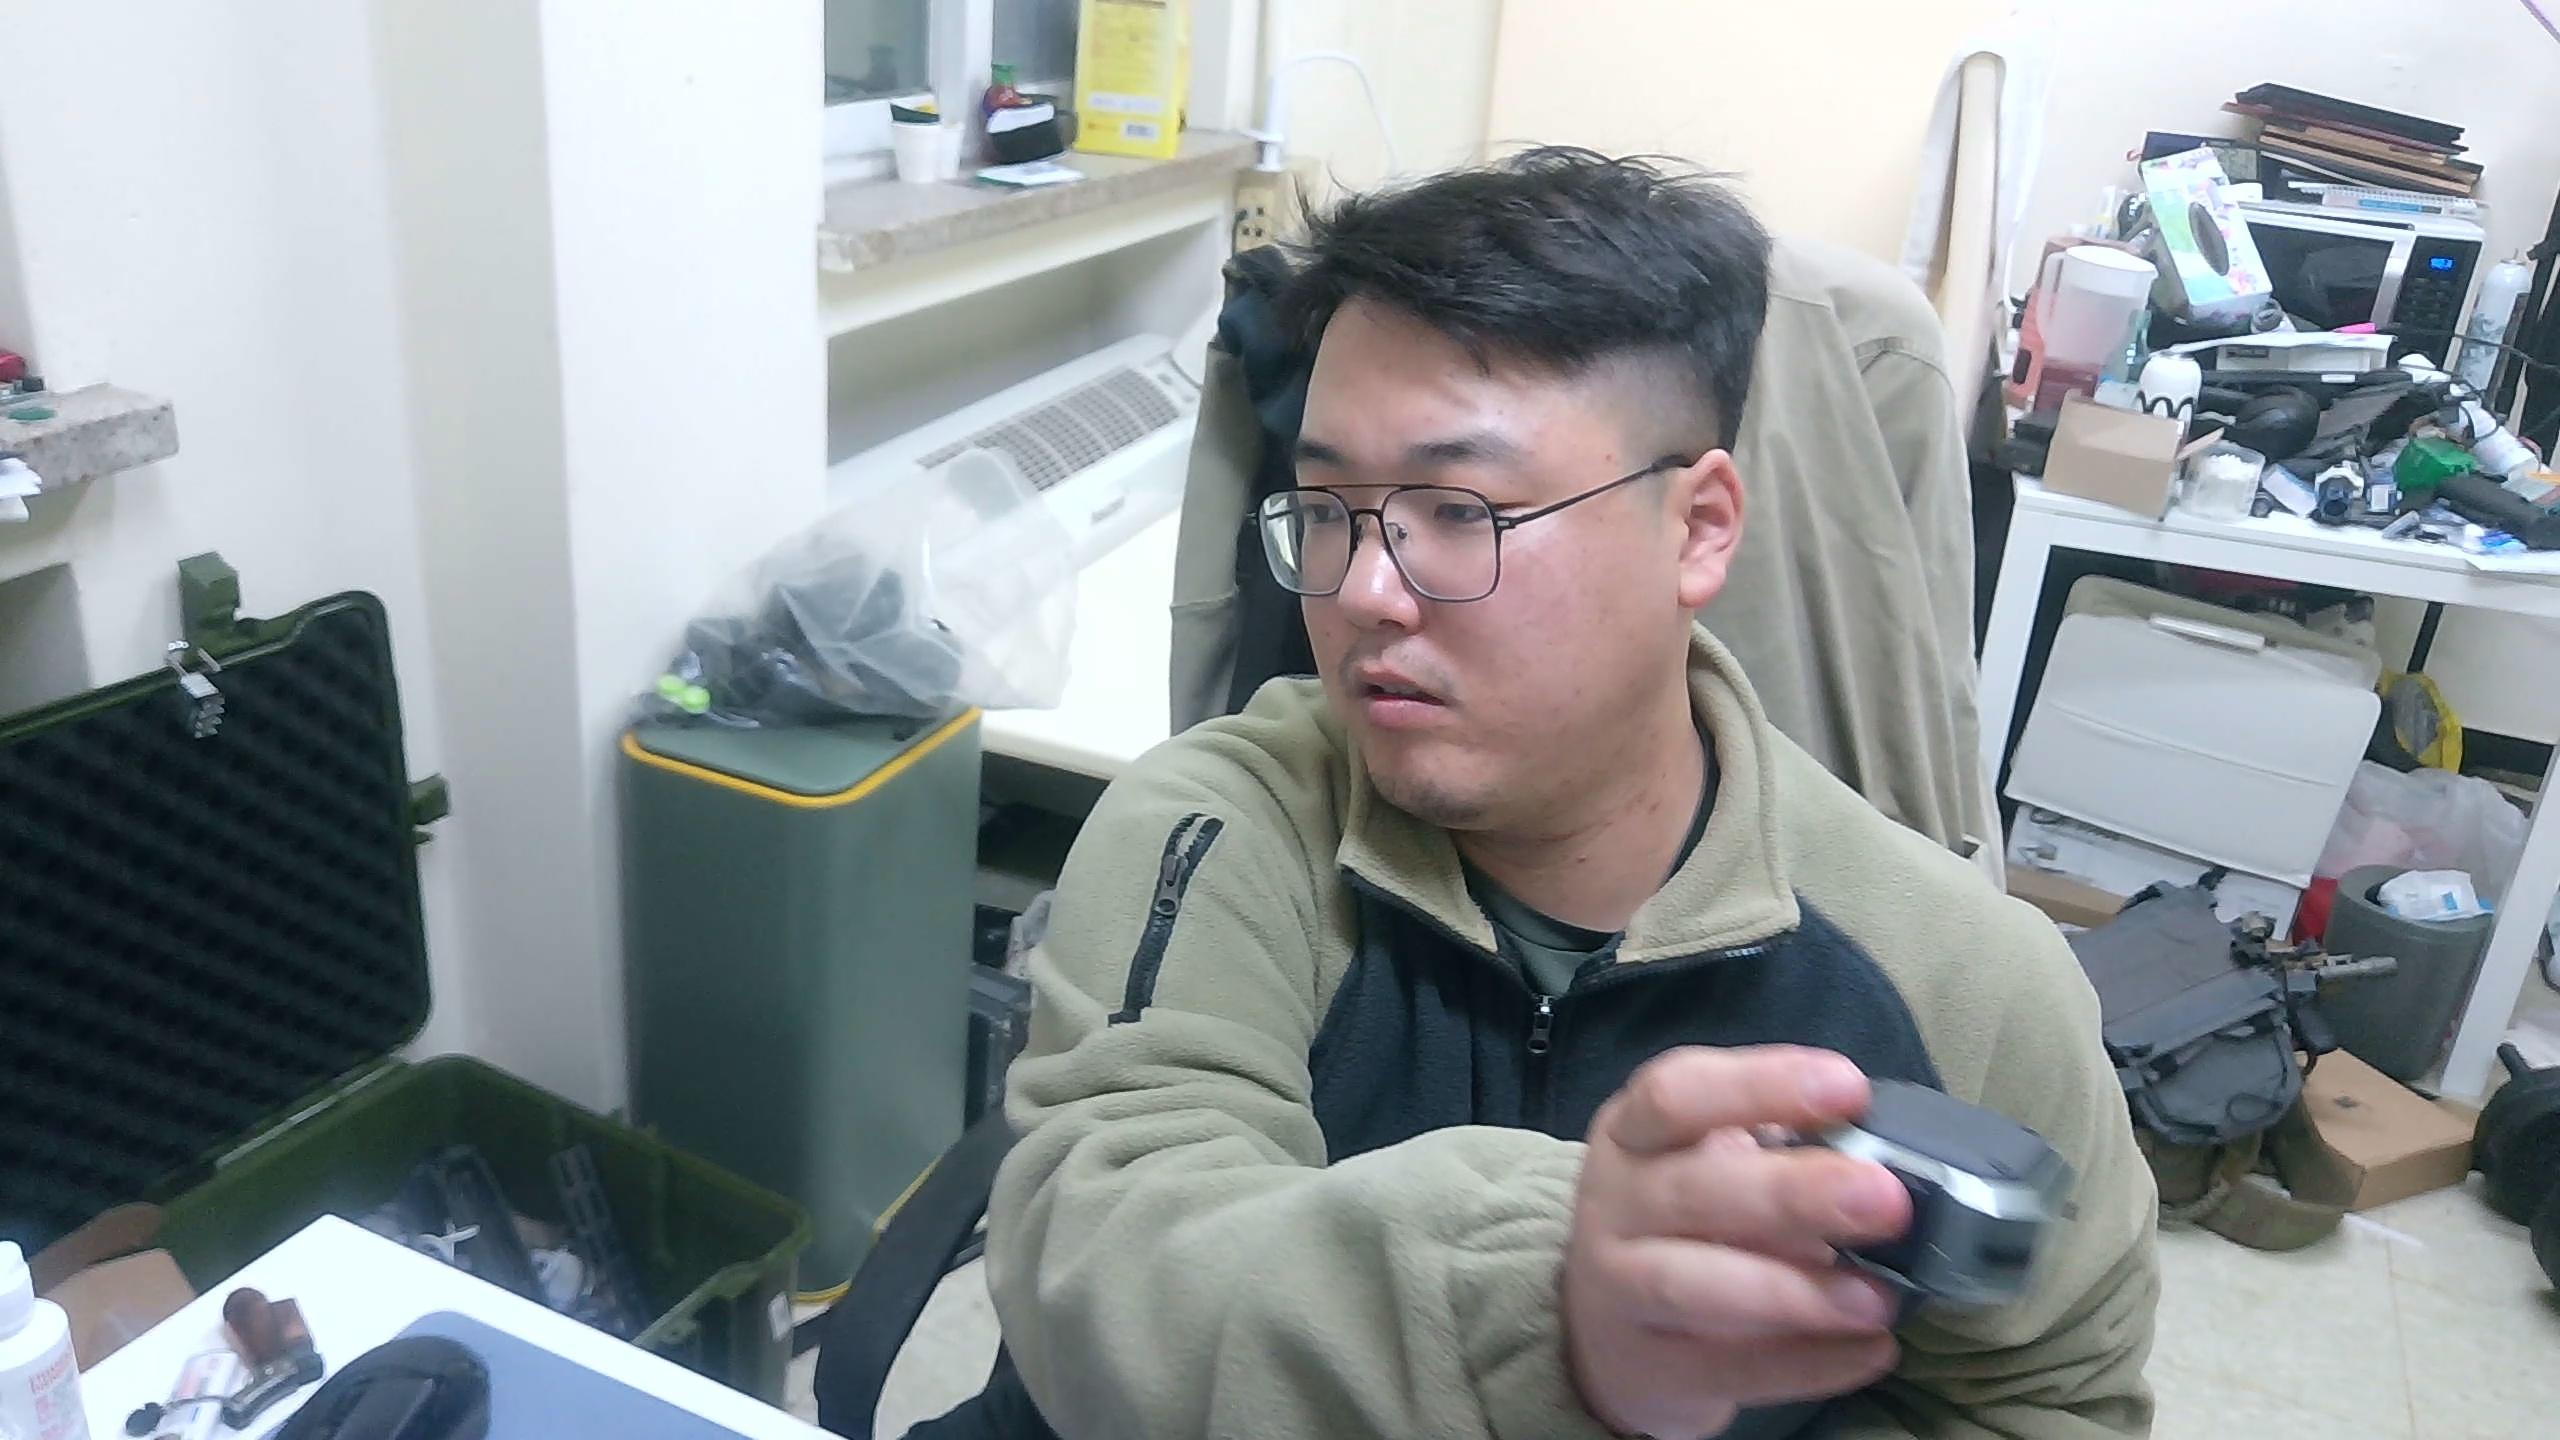blue_pliers: (1776, 1073, 2082, 1313)
